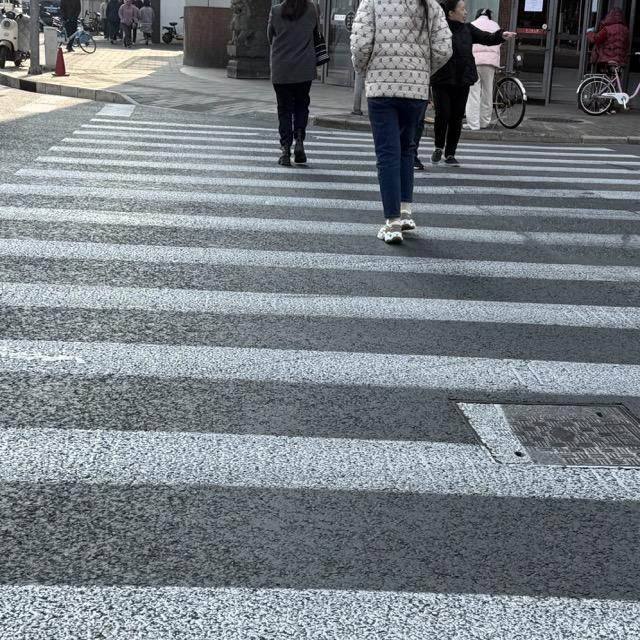curb: (0, 72, 138, 103), (310, 117, 369, 129)
